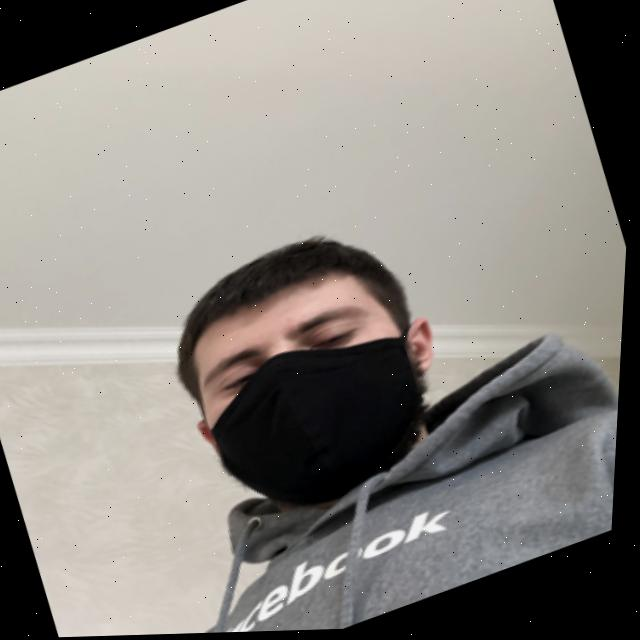Mask: (196, 324, 466, 526)
